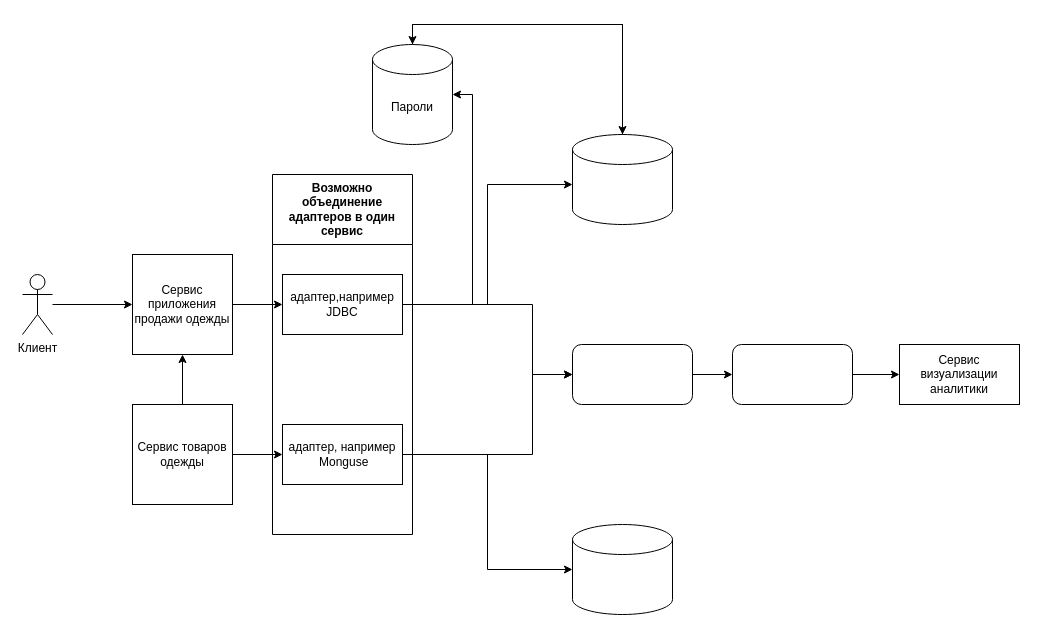
The diagram is 1037 pixels wide and 632 high, and some of its shapes have lost their labels. Here are the shapes that lost their labels. From the top down, the centre of each, then its label:
At [622,179]: "Данные об клиенте postgresql".
At [632,374]: "kafka".
At [792,374]: "логика аналитики".
At [622,569]: "mongodb".
